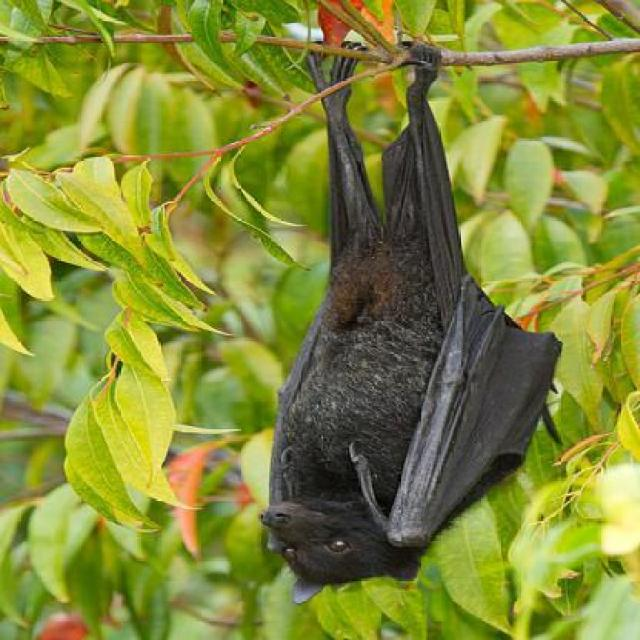Bat: (260, 37, 560, 601)
